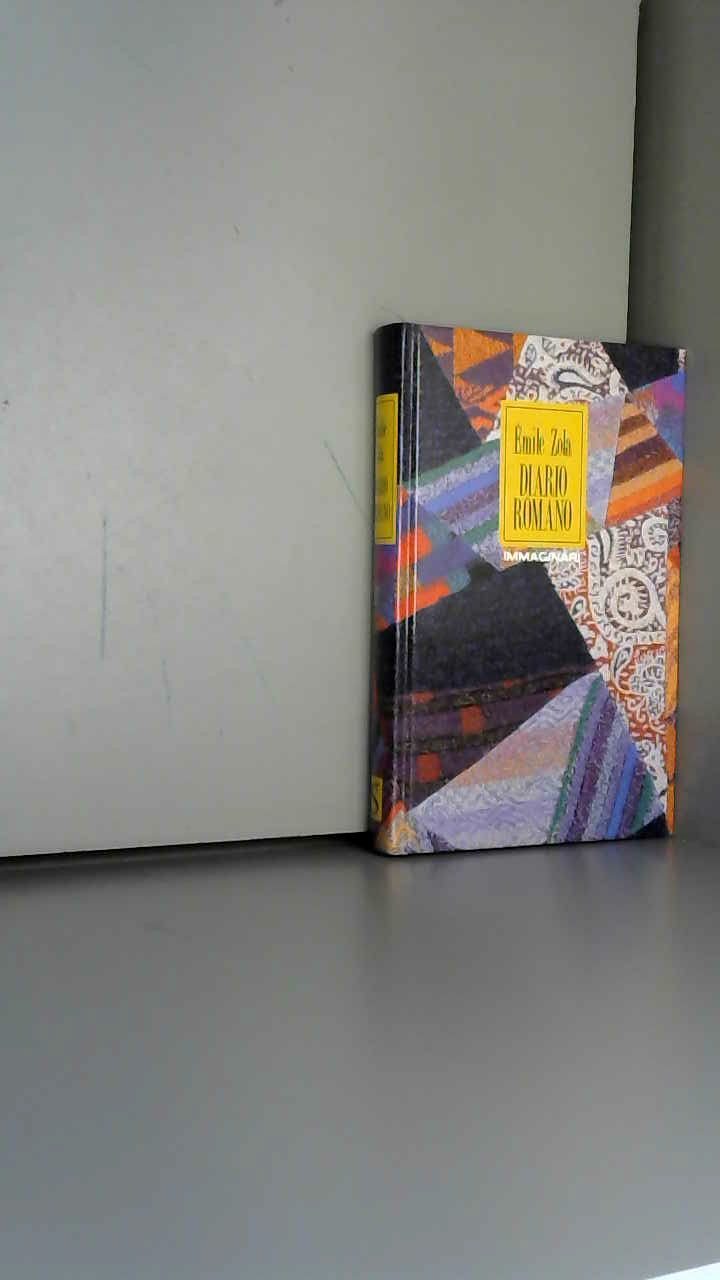book: (340, 290, 720, 881)
